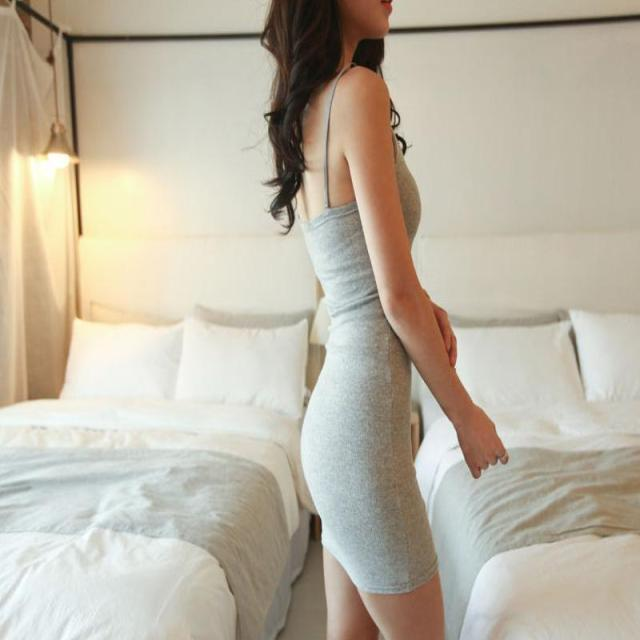sling dress: (297, 61, 439, 594)
